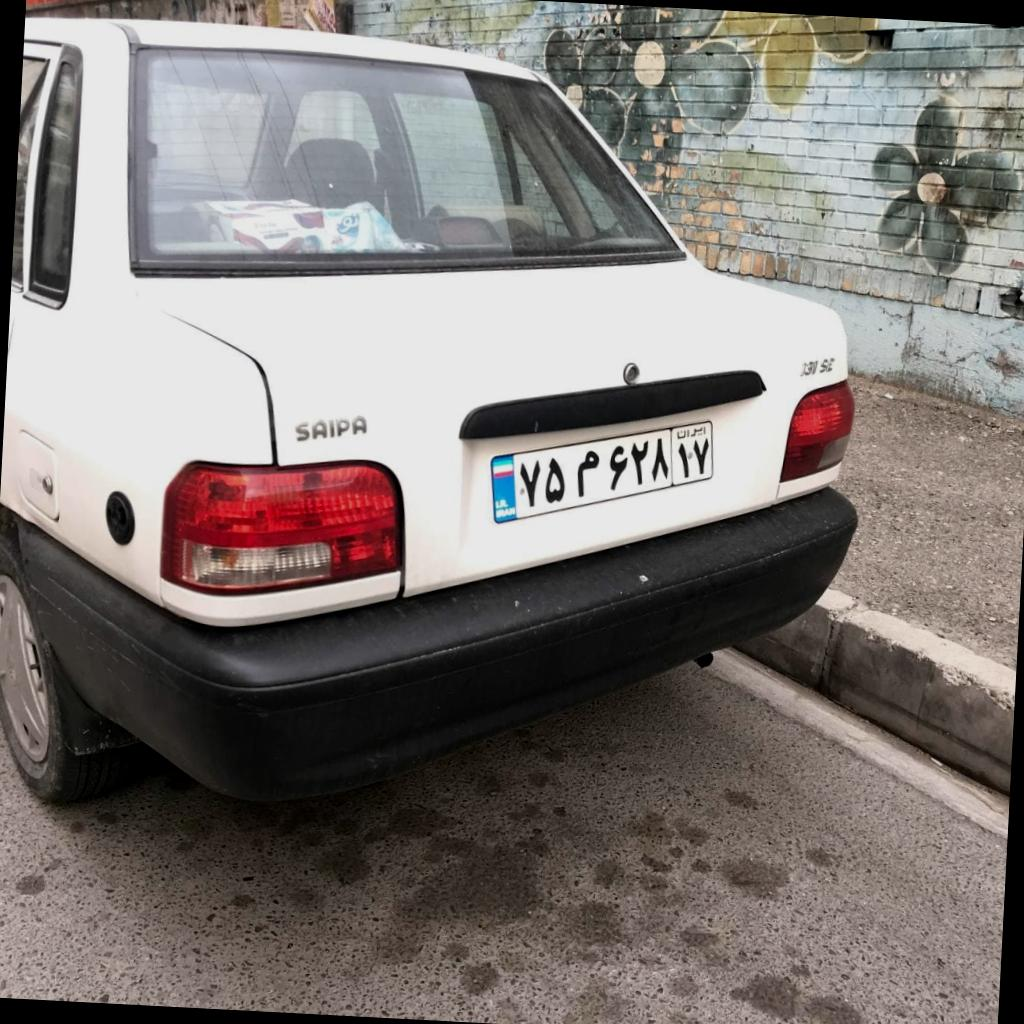Plates: (490, 421, 712, 524)
